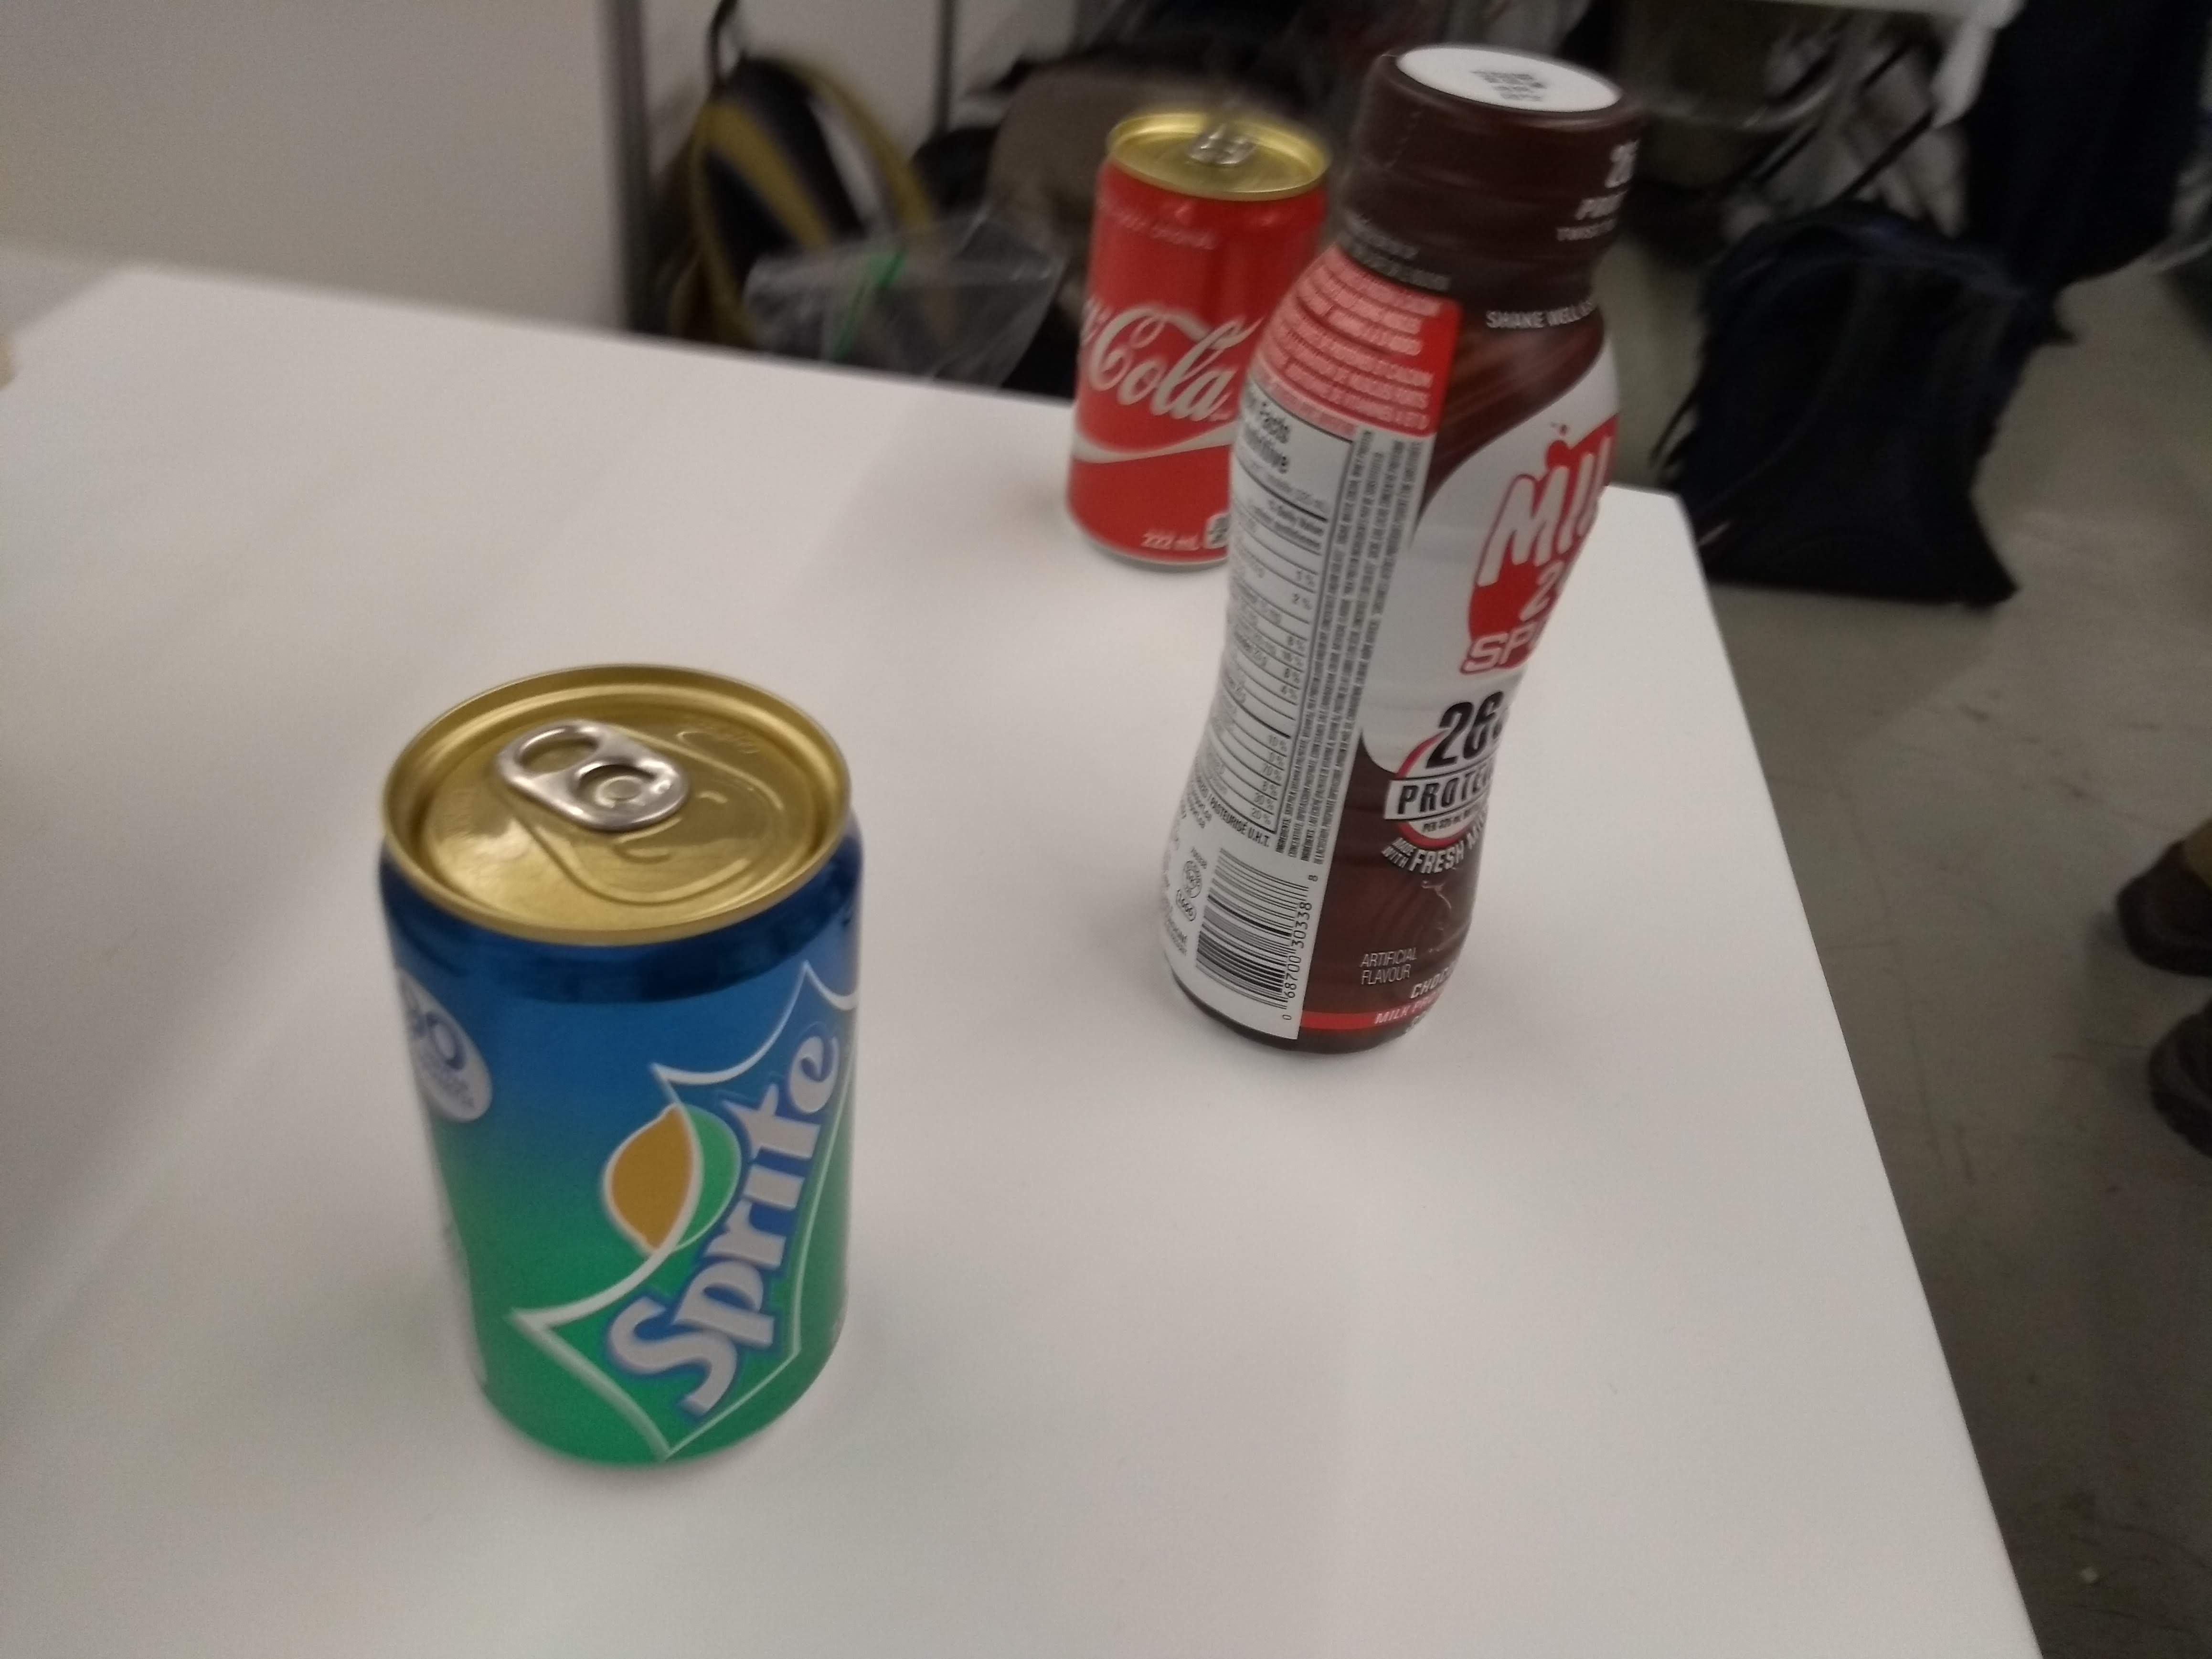chocolate_drink: (1143, 45, 1658, 1065)
coke: (1057, 98, 1338, 582)
sprite: (362, 653, 880, 1473)
